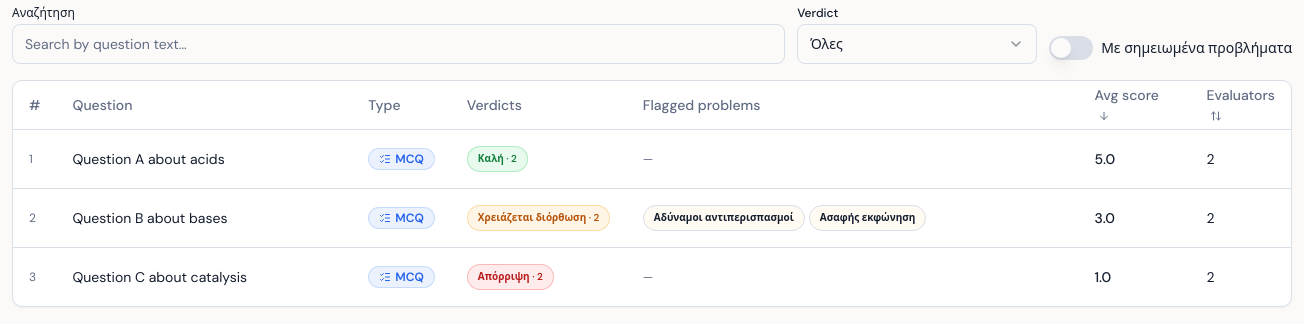
Test: CourseEvaluationsQuestionsTab › filters by 'has flagged problems'
Click the switch with test id "only-flagged-toggle".
click(1071, 48)  # box [1049,36,1093,60]
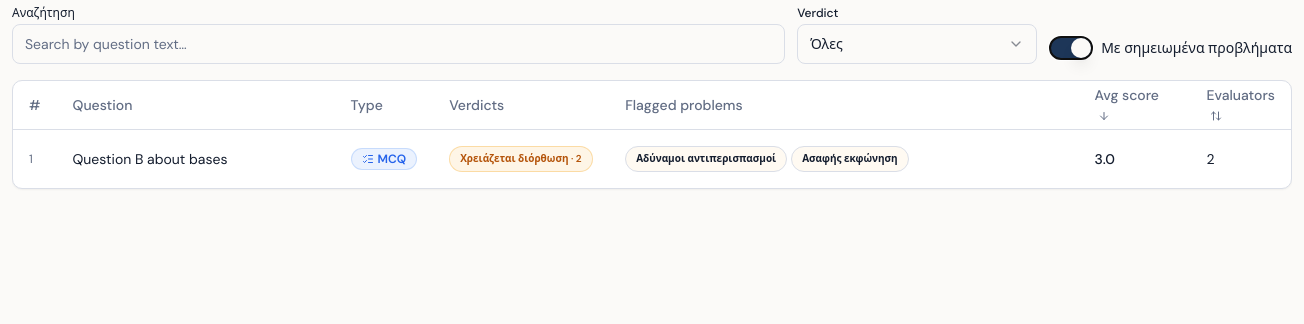
Expected: the row with test id "evaluations-row-qB" is shown, [13,129,1291,188]
Now the row with test id "evaluations-row-qA" is gone
Now the row with test id "evaluations-row-qC" is gone
